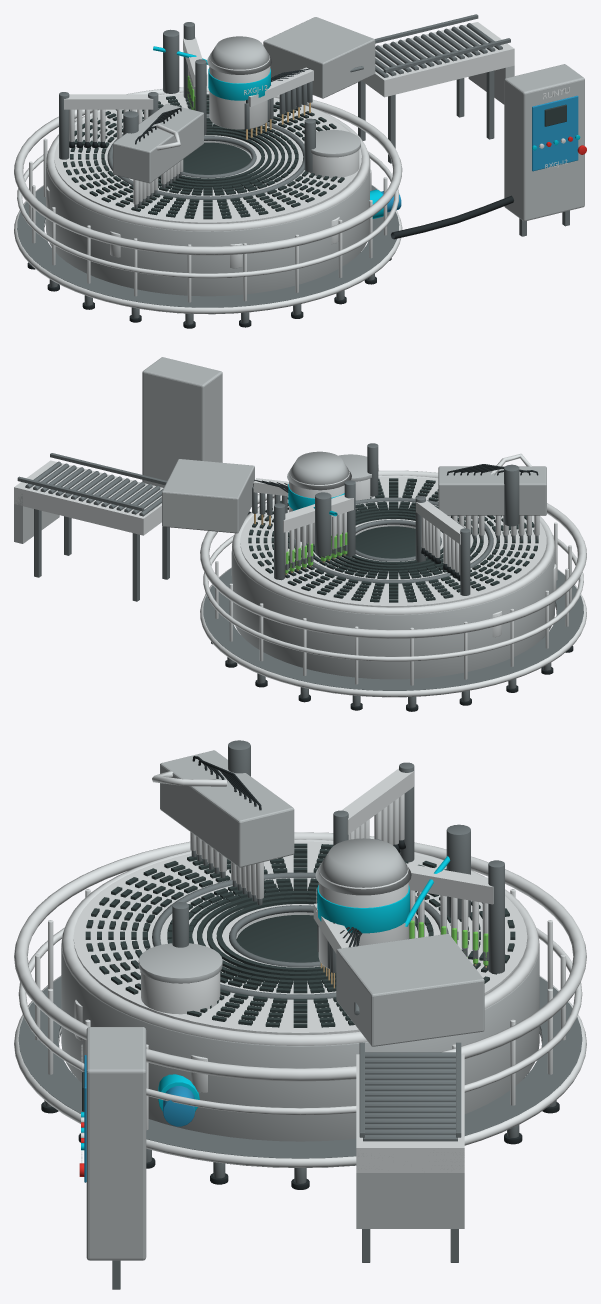
File: danxiao-rxgj-12.glb
3 views of the same model, one above another, from view 1: azimuth 30°, elevation 25°; view 2: azimuth 150°, elevation 25°; view 3: azimuth 270°, elevation 25° (orthographic). The views are drawn at different scales.
Visible parts, largest first — view 1: tank.outer_drum, control.cabinet, tank.outer_brine_deck, walkway.grating, guard.top_rail, outfeed.transfer_housing, filling.manifold_box, outfeed.conveyor_bed, tank.upper_lip, walkway.outer_edge, guard.mid_rail, control.blue_face (+23 smaller); view 2: tank.outer_drum, control.cabinet, tank.outer_brine_deck, walkway.grating, outfeed.transfer_housing, guard.top_rail, filling.manifold_box, outfeed.conveyor_bed, tank.upper_lip, walkway.outer_edge, guard.mid_rail, stick.hopper_cap (+19 smaller); view 3: tank.outer_drum, control.cabinet, outfeed.transfer_housing, tank.outer_brine_deck, guard.top_rail, walkway.grating, filling.manifold_box, tank.upper_lip, outfeed.end_bound, walkway.outer_edge, guard.mid_rail, outfeed.conveyor_bed (+19 smaller).
Part boxes in pixels (x1=…): tank.outer_drum: x1=46, y1=144, x2=370, y2=296; control.cabinet: x1=504, y1=64, x2=584, y2=221; tank.outer_brine_deck: x1=54, y1=92, x2=361, y2=223; walkway.grating: x1=17, y1=185, x2=399, y2=314; guard.top_rail: x1=14, y1=86, x2=402, y2=255; outfeed.transfer_housing: x1=263, y1=17, x2=375, y2=98; filling.manifold_box: x1=113, y1=104, x2=203, y2=183; outfeed.conveyor_bed: x1=362, y1=22, x2=514, y2=97; tank.upper_lip: x1=46, y1=91, x2=370, y2=231; walkway.outer_edge: x1=14, y1=185, x2=402, y2=313; guard.mid_rail: x1=17, y1=151, x2=399, y2=278; control.blue_face: x1=532, y1=95, x2=578, y2=171; tank.outer_drum: x1=232, y1=529, x2=554, y2=679; control.cabinet: x1=142, y1=357, x2=222, y2=487; tank.outer_brine_deck: x1=240, y1=476, x2=546, y2=607; walkway.grating: x1=203, y1=568, x2=583, y2=697; outfeed.transfer_housing: x1=162, y1=459, x2=254, y2=533; guard.top_rail: x1=200, y1=470, x2=586, y2=638; filling.manifold_box: x1=438, y1=466, x2=546, y2=515; outfeed.conveyor_bed: x1=14, y1=460, x2=163, y2=535; tank.upper_lip: x1=232, y1=475, x2=554, y2=614; walkway.outer_edge: x1=200, y1=567, x2=586, y2=697; guard.mid_rail: x1=203, y1=535, x2=583, y2=661; stick.hopper_cap: x1=287, y1=451, x2=351, y2=490; tank.outer_drum: x1=61, y1=917, x2=539, y2=1141; control.cabinet: x1=86, y1=1027, x2=146, y2=1260; outfeed.transfer_housing: x1=336, y1=934, x2=484, y2=1046; tank.outer_brine_deck: x1=73, y1=841, x2=527, y2=1034; guard.top_rail: x1=14, y1=832, x2=586, y2=1081; walkway.grating: x1=18, y1=977, x2=582, y2=1167; filling.manifold_box: x1=160, y1=750, x2=294, y2=867; tank.upper_lip: x1=61, y1=839, x2=539, y2=1045; outfeed.end_bound: x1=356, y1=1152, x2=464, y2=1228; walkway.outer_edge: x1=14, y1=975, x2=586, y2=1167; guard.mid_rail: x1=18, y1=927, x2=582, y2=1115; outfeed.conveyor_bed: x1=356, y1=1054, x2=464, y2=1172.
Bounding box in the file's own units: 5.5 × 1.88 × 3.75.
